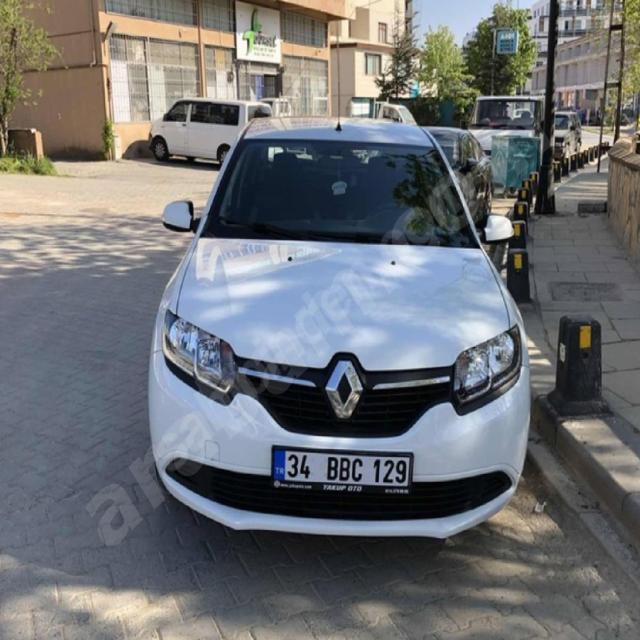license_plate: (272, 446, 410, 486)
